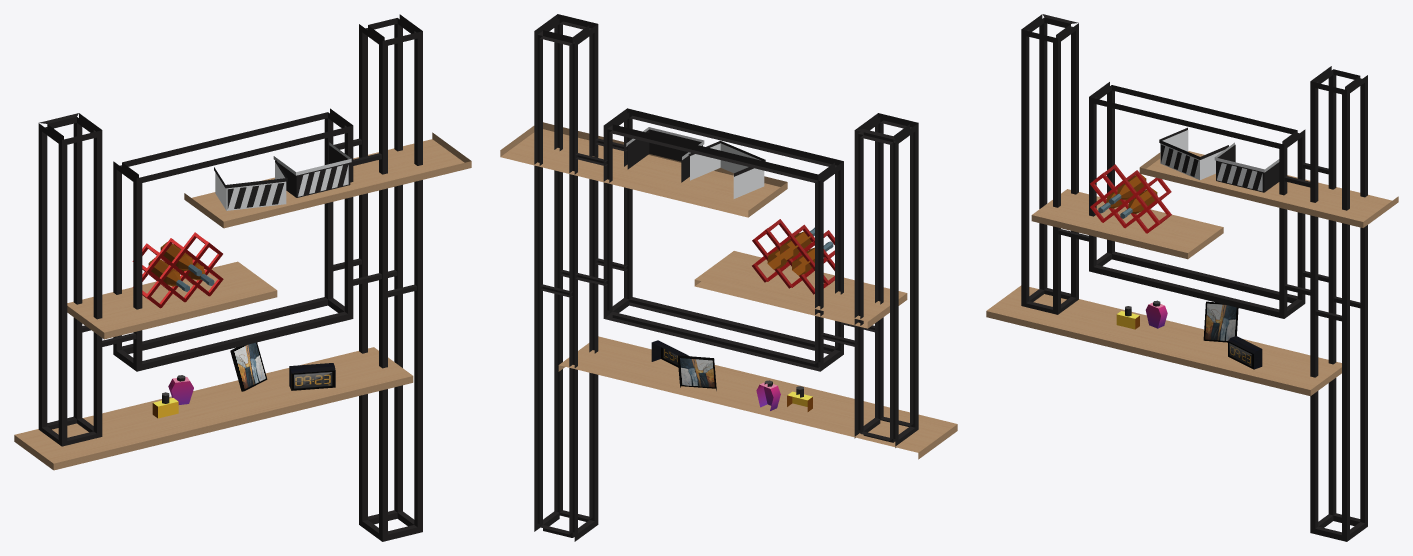
Rendered from M_zhuangshiqiangR08.FBX.
3 views of the same model, side by side, from view 1: azimuth 30°, elevation 25°; view 2: azimuth 150°, elevation 25°; view 3: azimuth 330°, elevation 25° (orthographic). The views are drawn at different scales.
Visible parts, largest first — view 1: M_zhuangshiqiangR08_01, M_zhuangshiqiangR08_02, M_zhuangshiqiangR08_06, M_zhuangshiqiangR08_04, M_zhuangshiqiangR08_03, M_zhuangshiqiangR08_05; view 2: M_zhuangshiqiangR08_01, M_zhuangshiqiangR08_02, M_zhuangshiqiangR08_06, M_zhuangshiqiangR08_04, M_zhuangshiqiangR08_03, M_zhuangshiqiangR08_05; view 3: M_zhuangshiqiangR08_01, M_zhuangshiqiangR08_02, M_zhuangshiqiangR08_06, M_zhuangshiqiangR08_04, M_zhuangshiqiangR08_03, M_zhuangshiqiangR08_05.
Part boxes in pixels (x1,y1,x2,y2): M_zhuangshiqiangR08_01: [38, 14, 422, 541]; M_zhuangshiqiangR08_02: [14, 132, 471, 470]; M_zhuangshiqiangR08_06: [214, 142, 351, 210]; M_zhuangshiqiangR08_04: [132, 232, 223, 418]; M_zhuangshiqiangR08_03: [230, 342, 335, 391]; M_zhuangshiqiangR08_05: [148, 242, 205, 286]; M_zhuangshiqiangR08_01: [534, 14, 918, 541]; M_zhuangshiqiangR08_02: [500, 122, 957, 459]; M_zhuangshiqiangR08_06: [626, 127, 765, 198]; M_zhuangshiqiangR08_04: [752, 219, 834, 411]; M_zhuangshiqiangR08_03: [651, 340, 716, 390]; M_zhuangshiqiangR08_05: [767, 231, 823, 275]; M_zhuangshiqiangR08_01: [1021, 14, 1367, 541]; M_zhuangshiqiangR08_02: [986, 151, 1398, 396]; M_zhuangshiqiangR08_06: [1159, 127, 1279, 192]; M_zhuangshiqiangR08_04: [1090, 164, 1171, 329]; M_zhuangshiqiangR08_03: [1203, 301, 1262, 369]; M_zhuangshiqiangR08_05: [1106, 174, 1157, 213].
Bounding box in the file's own units: 3.33 × 3.81 × 0.5984.
